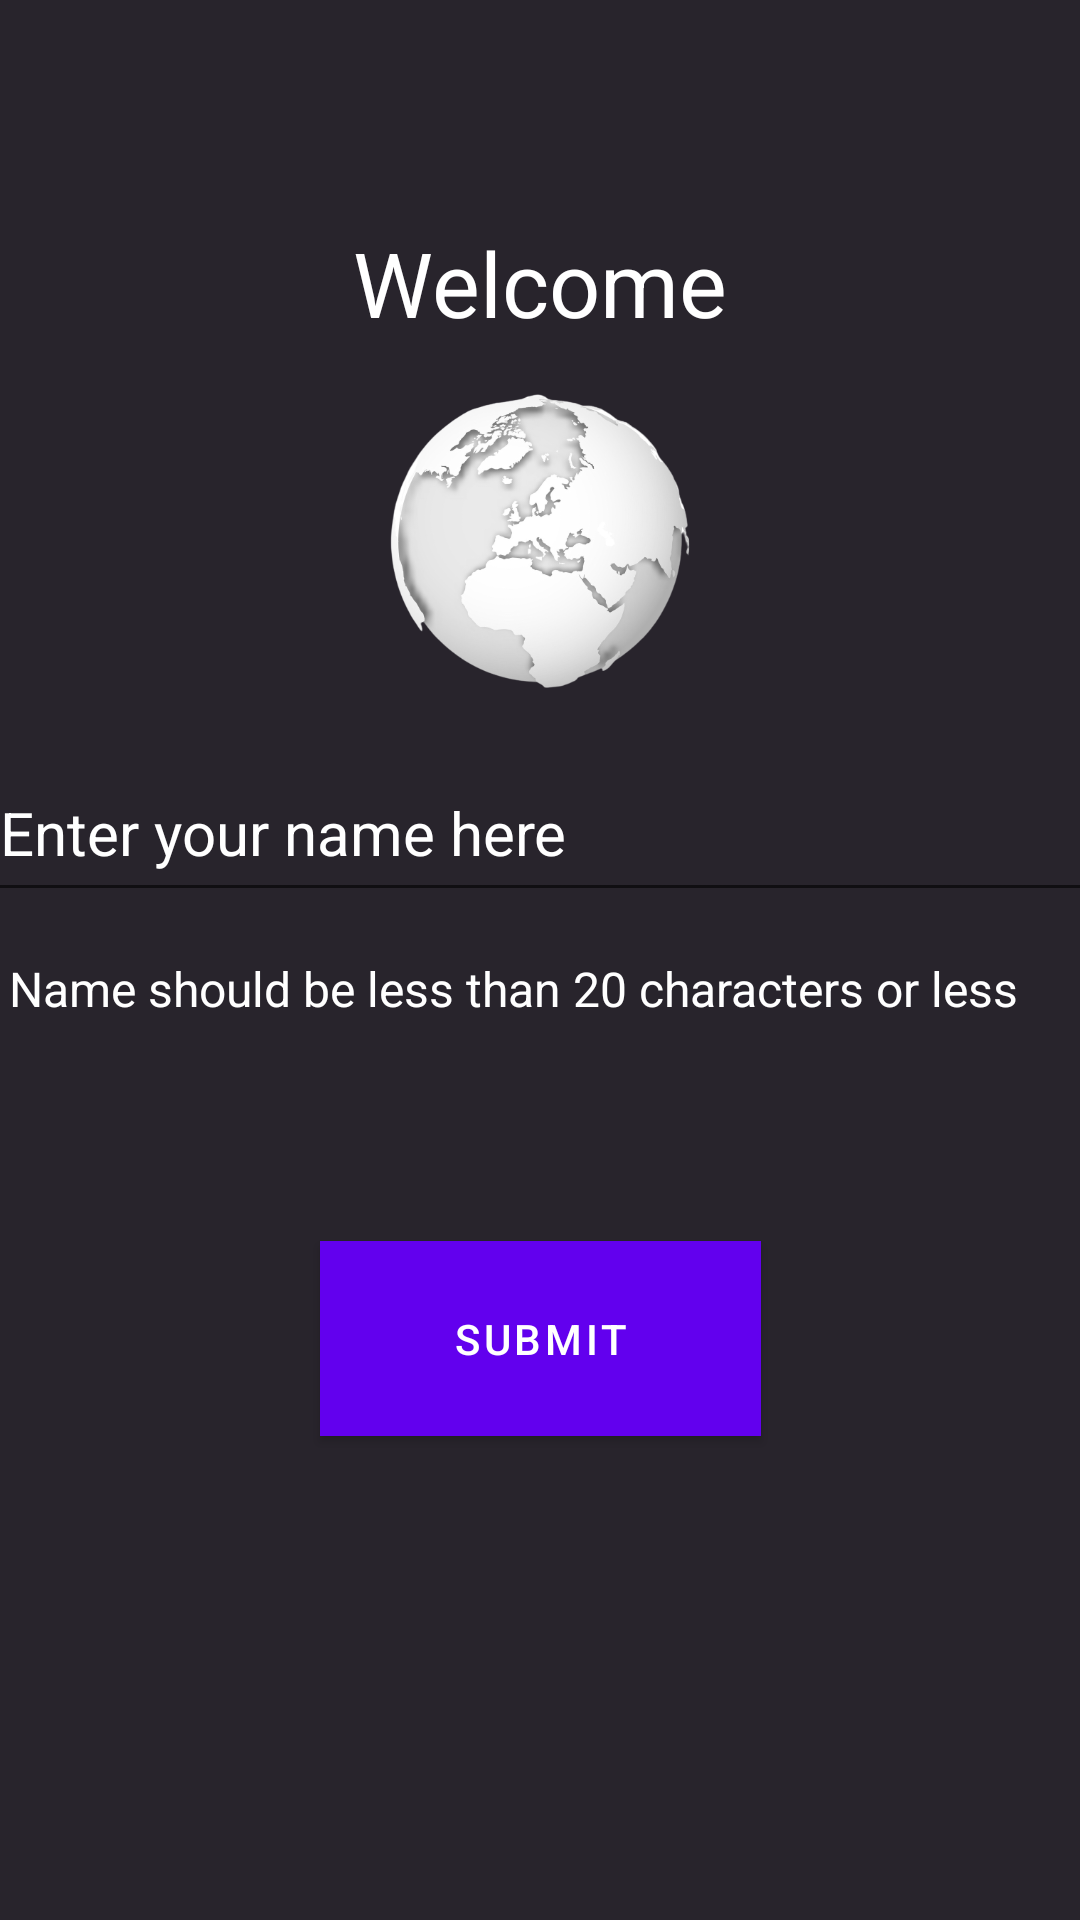

Where icons sit on this 1080px x 1920px app screen, as box=[x1, y1, x2, y2]:
globe: box=[391, 394, 689, 688]
